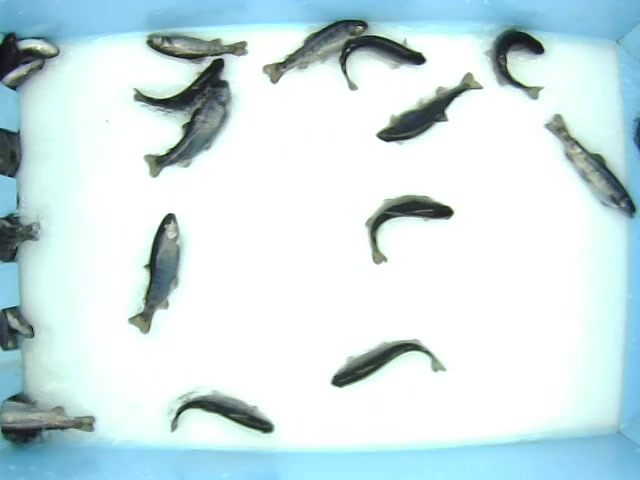fish: (539, 113, 640, 219), (143, 78, 233, 179), (375, 70, 484, 144), (261, 19, 370, 86), (125, 213, 182, 335), (364, 194, 456, 266), (329, 337, 447, 388), (133, 57, 226, 111), (339, 35, 427, 91), (168, 391, 276, 436), (483, 28, 546, 101), (145, 33, 249, 65)
